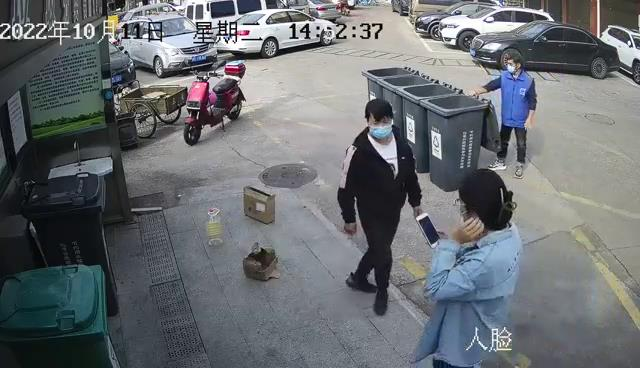person: (333, 95, 426, 321)
suliaozhipin: (203, 204, 225, 252)
worker: (406, 165, 528, 368), (466, 48, 540, 184)
zhizhipin: (240, 238, 287, 284), (239, 182, 278, 228)
